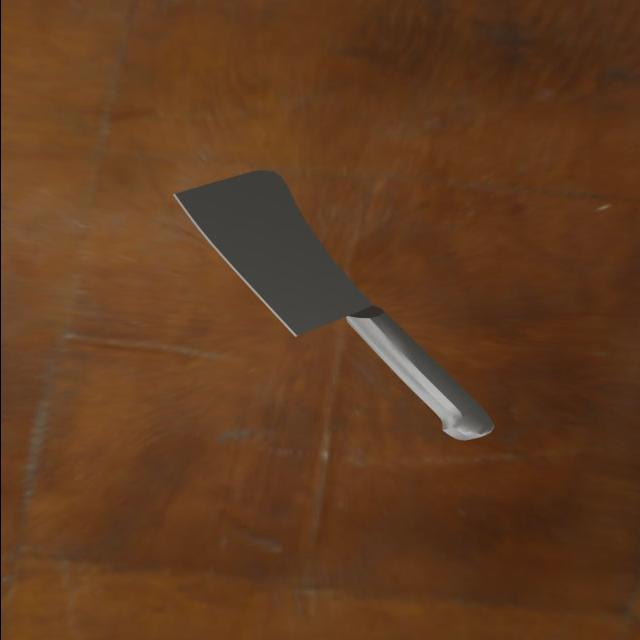knife: (346, 304, 501, 446)
